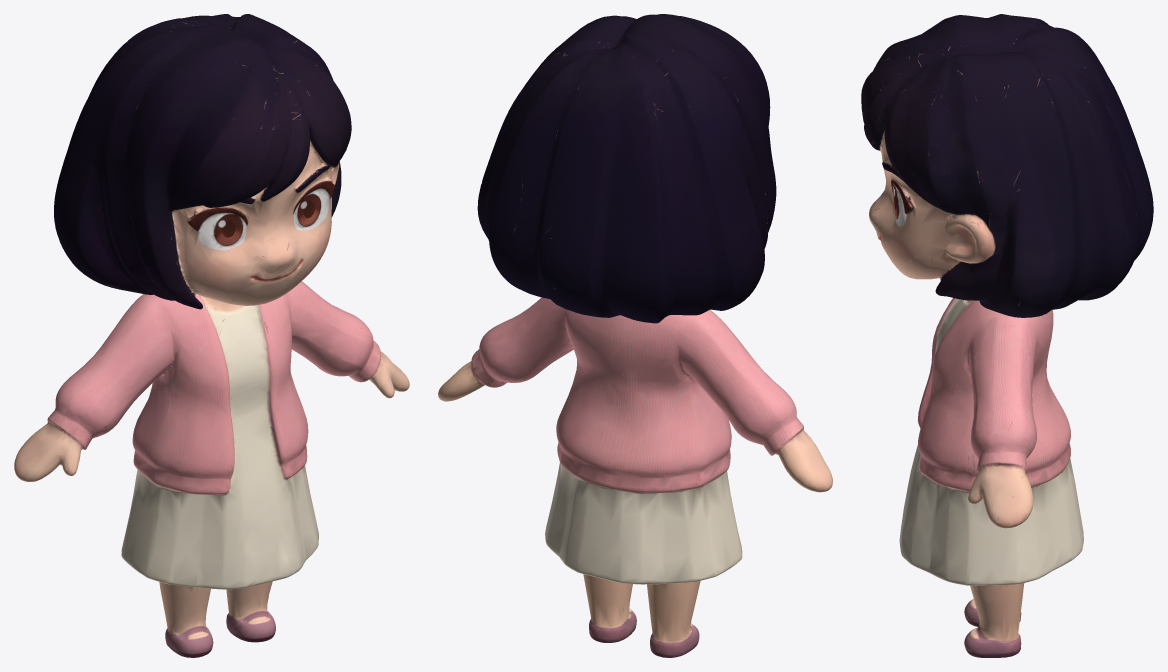
The model's file is twin_female.glb.
3 views of the same model, side by side, from view 1: azimuth 30°, elevation 25°; view 2: azimuth 150°, elevation 25°; view 3: azimuth 270°, elevation 25° (orthographic).
Parts seen in each view (by area): view 1: Mesh_0; view 2: Mesh_0; view 3: Mesh_0.
Part boxes in pixels (<box>): Mesh_0: <box>14,14,409,657</box>; Mesh_0: <box>438,14,832,657</box>; Mesh_0: <box>861,14,1153,657</box>.
Bounding box in the file's own units: 1.27 × 1.91 × 0.831.
Materials: 1 (1 with a texture image).
